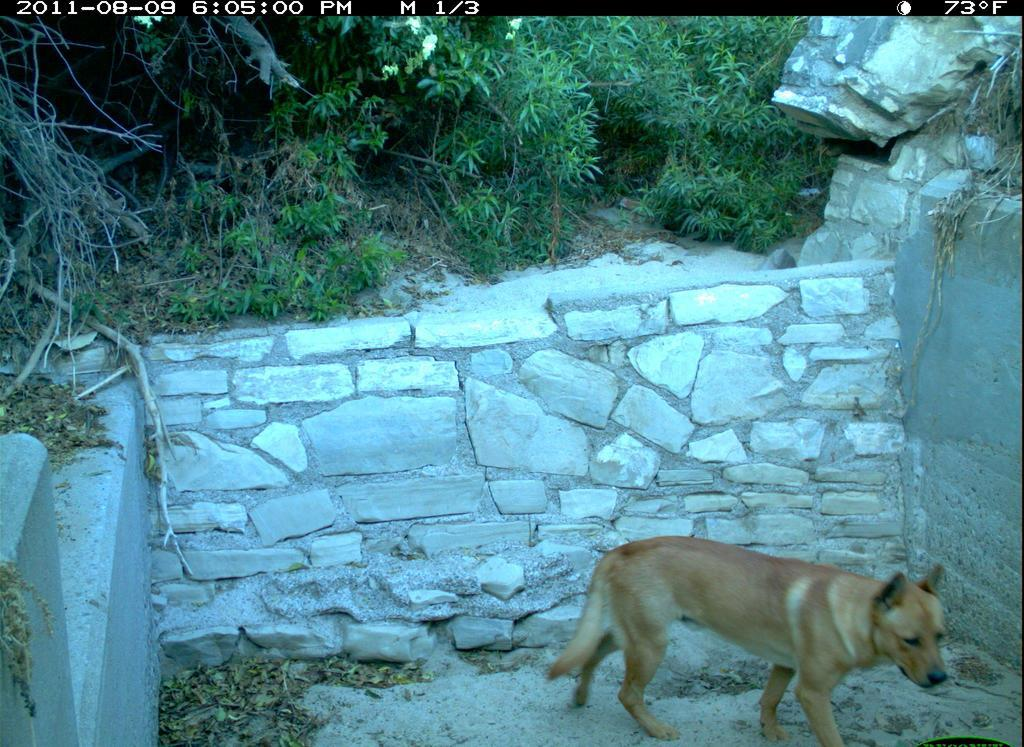dog: (536, 523, 968, 745)
